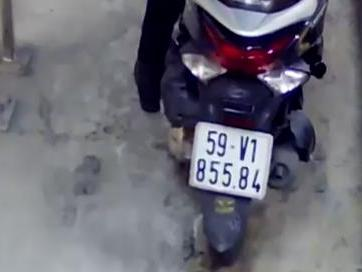num_plate: (188, 120, 274, 200)
